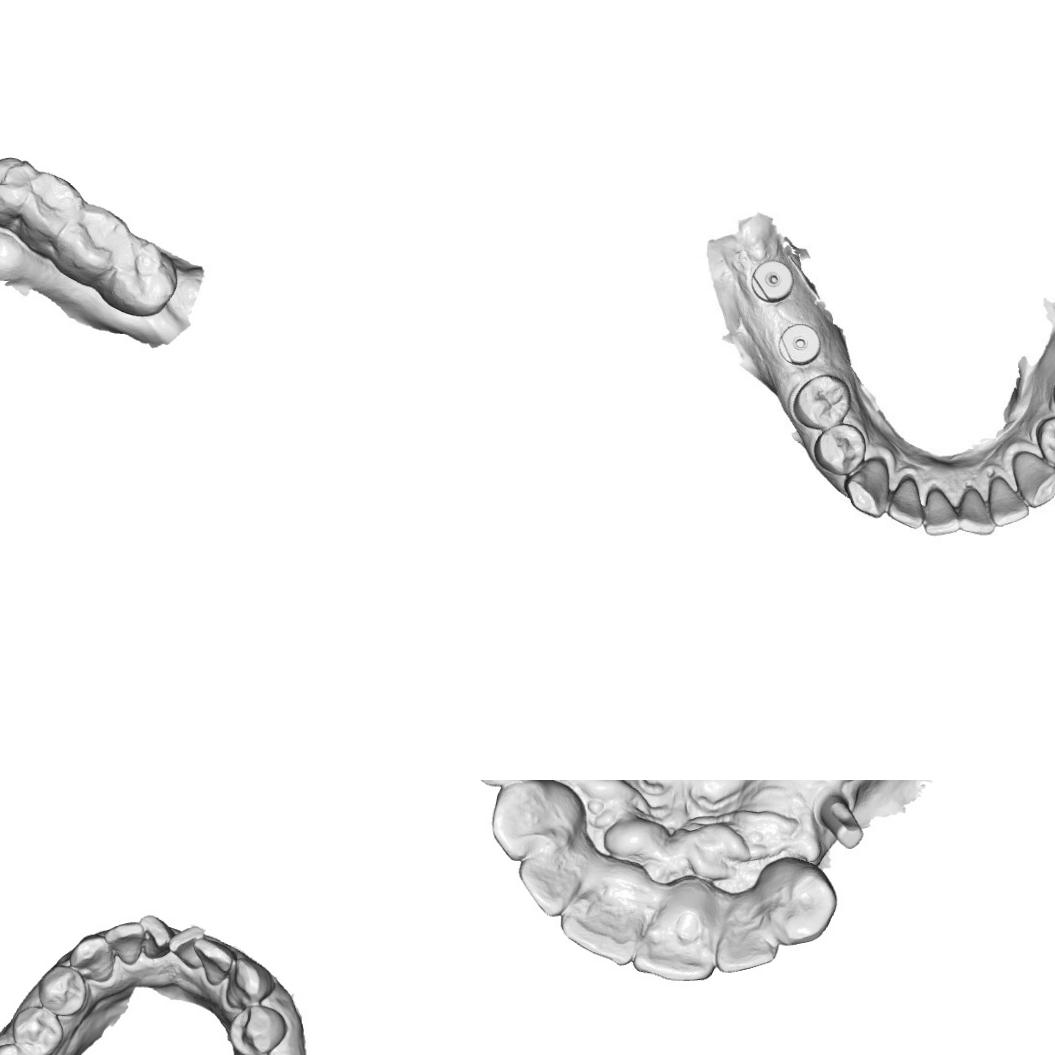abutment: (815, 790, 867, 852)
canine: (758, 856, 839, 950), (487, 780, 574, 863), (224, 956, 276, 1010), (1011, 448, 1055, 509), (845, 462, 890, 520), (68, 932, 115, 982)
implant: (774, 320, 825, 370), (747, 256, 796, 304)
incisor: (630, 912, 720, 984), (556, 895, 640, 968), (516, 848, 584, 920), (714, 911, 778, 976), (192, 937, 238, 986), (956, 481, 994, 537), (887, 472, 924, 525), (989, 474, 1027, 523), (104, 920, 144, 965), (166, 925, 205, 970), (138, 914, 176, 960), (922, 486, 956, 536)
molar: (54, 203, 131, 284), (103, 238, 178, 318)
premolar: (24, 171, 84, 242), (792, 369, 850, 430), (227, 1003, 286, 1055), (10, 1005, 63, 1055), (38, 964, 88, 1017), (813, 426, 869, 473), (0, 155, 36, 227), (1036, 415, 1055, 466)
